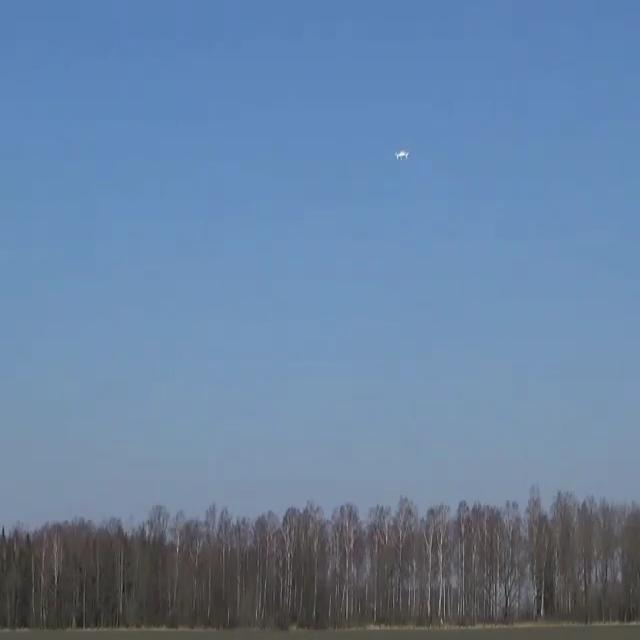Drone: (384, 141, 418, 168)
